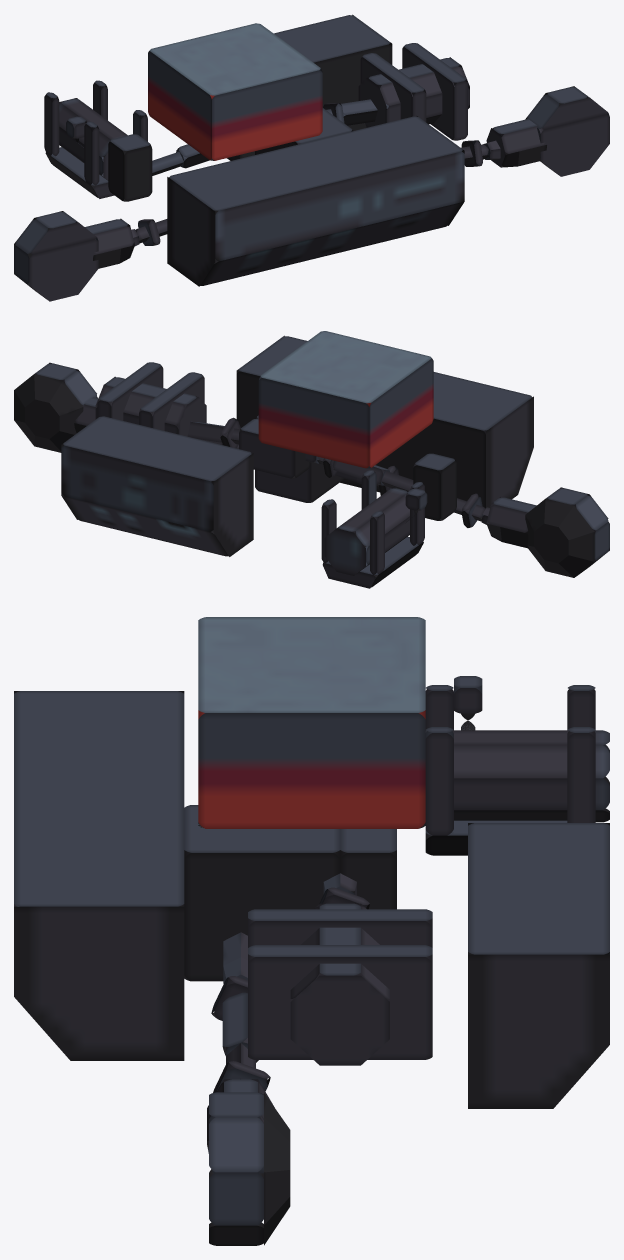
Rendered from jy290_equipment.obj.
3 views of the same model, one above another, from view 1: azimuth 30°, elevation 25°; view 2: azimuth 150°, elevation 25°; view 3: azimuth 270°, elevation 25° (orthographic). The views are drawn at different scales.
Parts seen in each view (by area): view 1: cube_selection; view 2: cube_selection; view 3: cube_selection.
Part boxes in pixels (x1,y1,x2,y2): cube_selection: (14, 14, 609, 301); cube_selection: (14, 331, 609, 588); cube_selection: (14, 617, 609, 1245).
Size of the model in its own units: 5.24 by 1.45 by 2.62.
